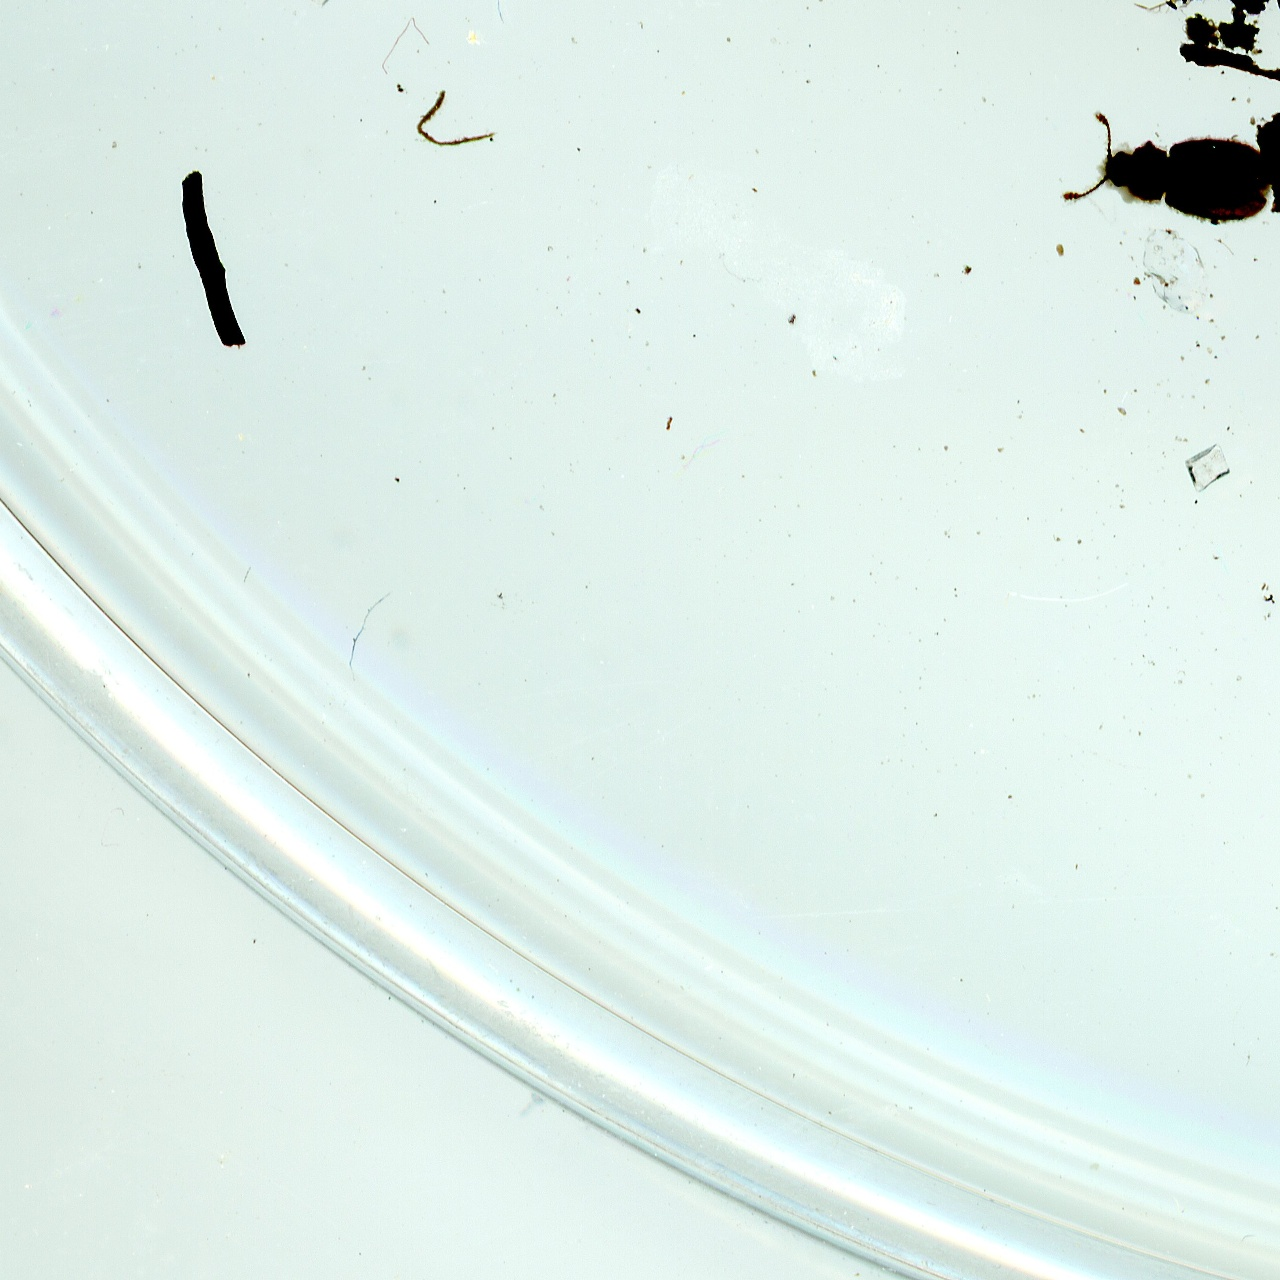arthropod: (1055, 104, 1276, 233)
